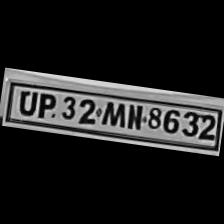2: (73, 94, 99, 125), (196, 107, 218, 141)
3: (178, 106, 201, 138), (56, 91, 79, 120)
6: (160, 105, 181, 133)
8: (142, 102, 162, 130)
M: (98, 96, 124, 128)
N: (124, 100, 146, 130)
P: (34, 88, 59, 120)
U: (12, 86, 38, 116)
